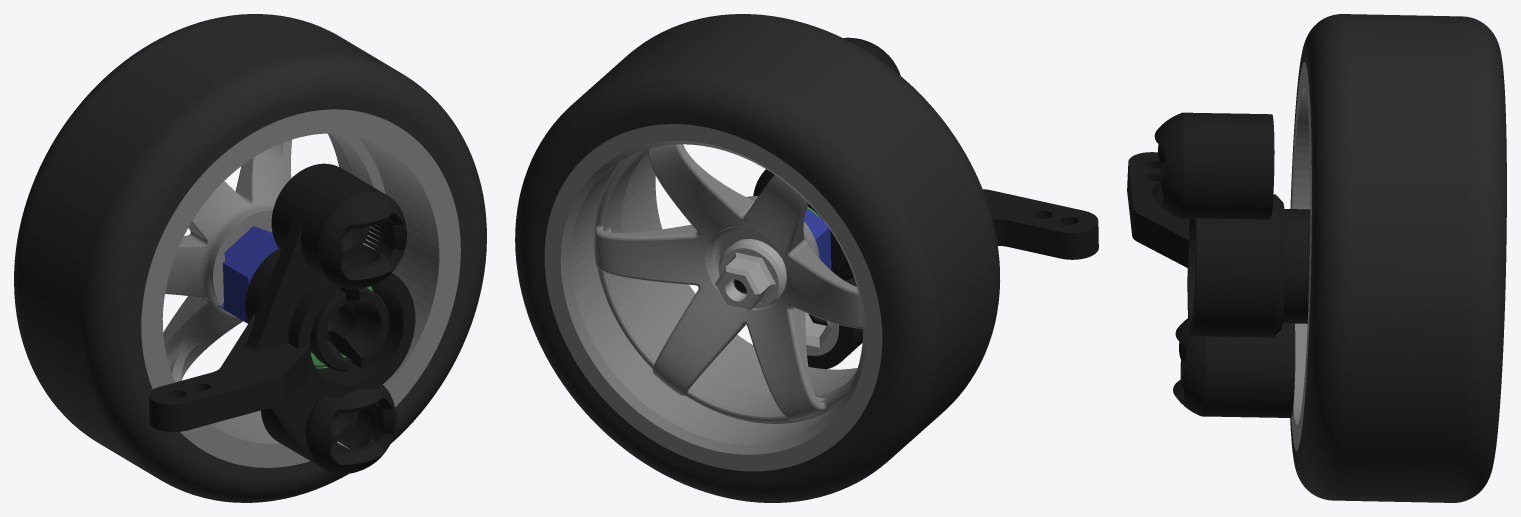
File: front_left_wheel_1.dae
The picture shows the model from 3 angles, left to right: view 1: azimuth 30°, elevation 25°; view 2: azimuth 150°, elevation 25°; view 3: azimuth 270°, elevation 25°; orthographic projection. The views are drawn at different scales.
Visible parts, largest first — view 1: part_1_node, part_0_node, part_4_node, part_2_node; view 2: part_1_node, part_4_node, part_0_node, part_5_node, part_2_node; view 3: part_1_node, part_0_node, part_4_node.
Part boxes in pixels (<box>): part_1_node: <box>14,14,486,502</box>; part_0_node: <box>148,163,415,474</box>; part_4_node: <box>141,109,460,467</box>; part_2_node: <box>218,226,278,323</box>; part_1_node: <box>515,14,999,502</box>; part_4_node: <box>544,124,882,471</box>; part_0_node: <box>733,37,1098,369</box>; part_5_node: <box>715,239,838,355</box>; part_2_node: <box>804,208,831,270</box>; part_1_node: <box>1290,14,1506,502</box>; part_0_node: <box>1127,112,1310,417</box>; part_4_node: <box>1291,62,1311,450</box>.
Bounding box in the file's own units: 67.16 × 50.74 × 65.6.
